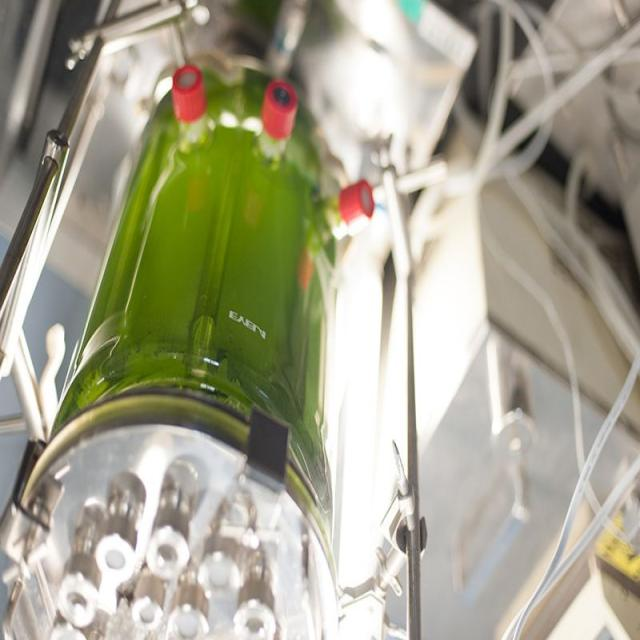Amoeba: (2, 60, 370, 640)
